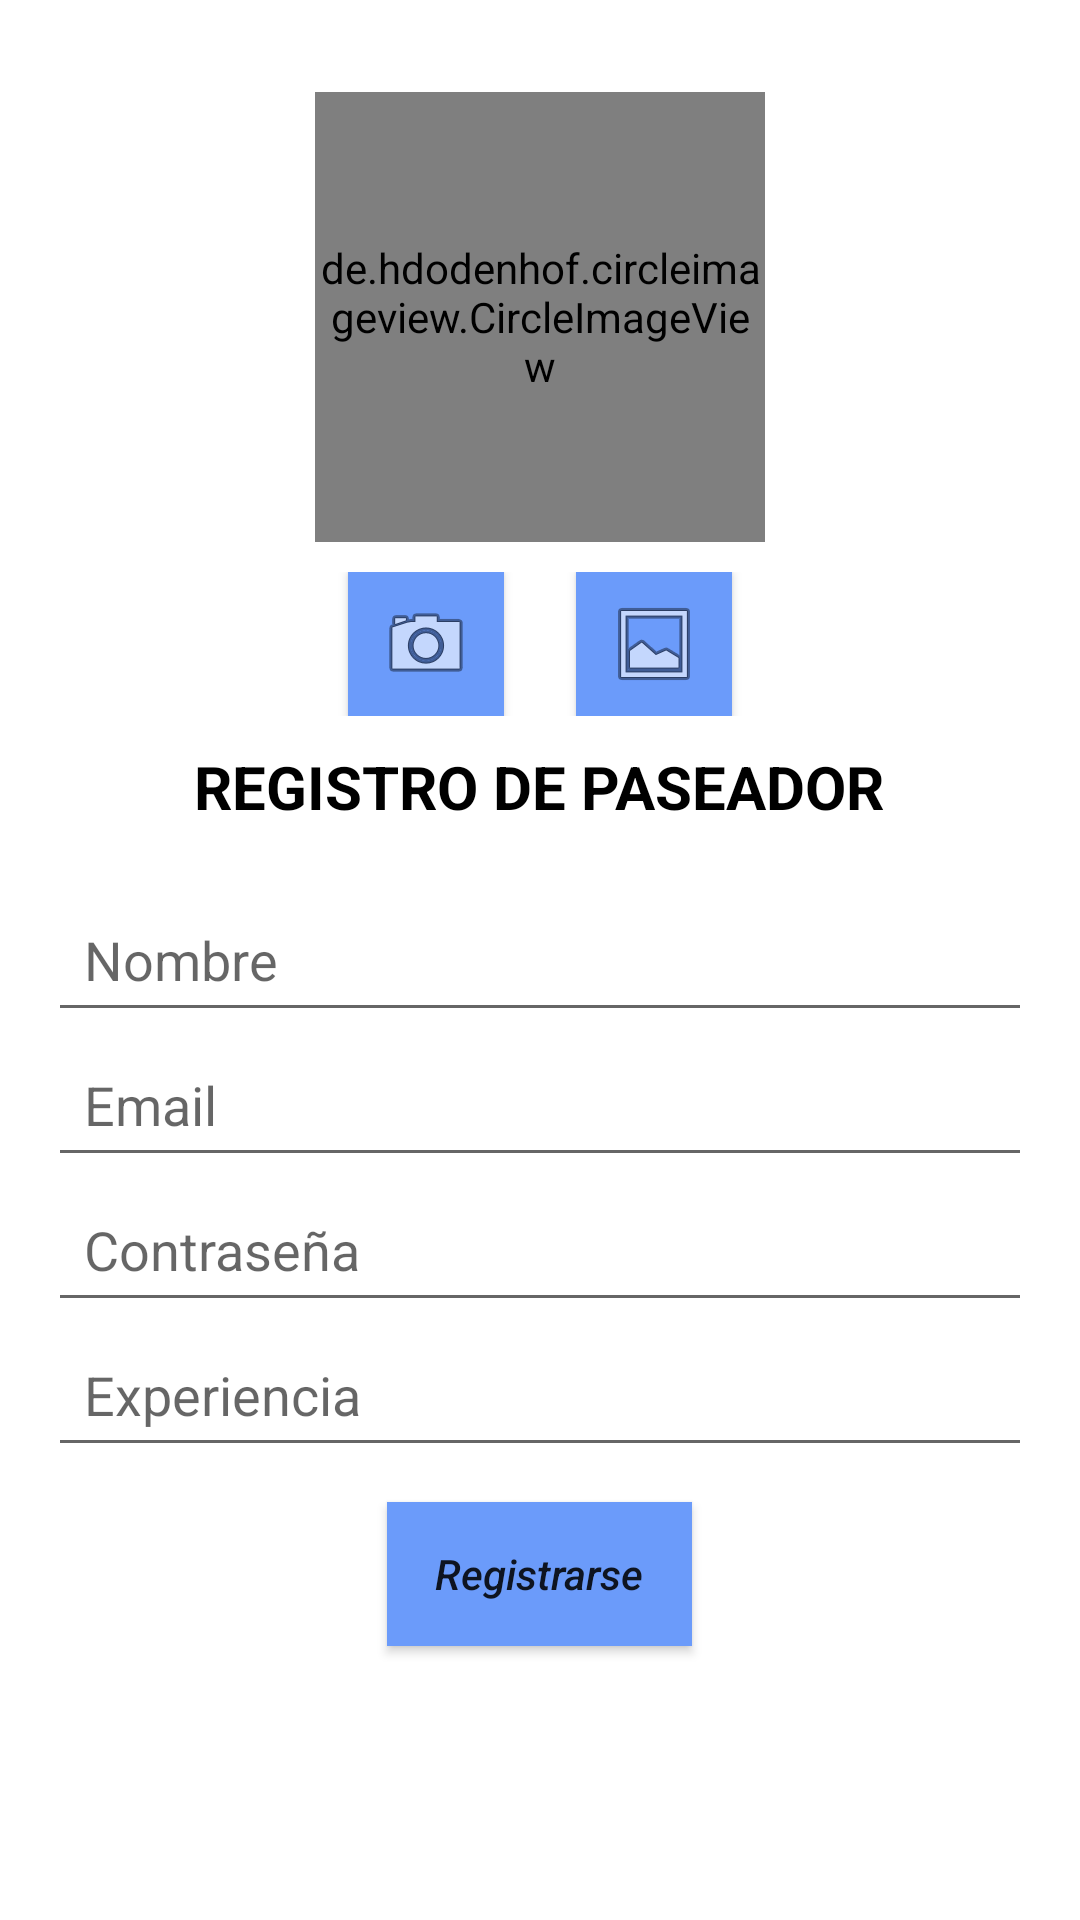

Named icons in this screenshot (1080 × 1920) and their centers, point (x, y):
camera: point (426, 644)
gallery: point (654, 644)
